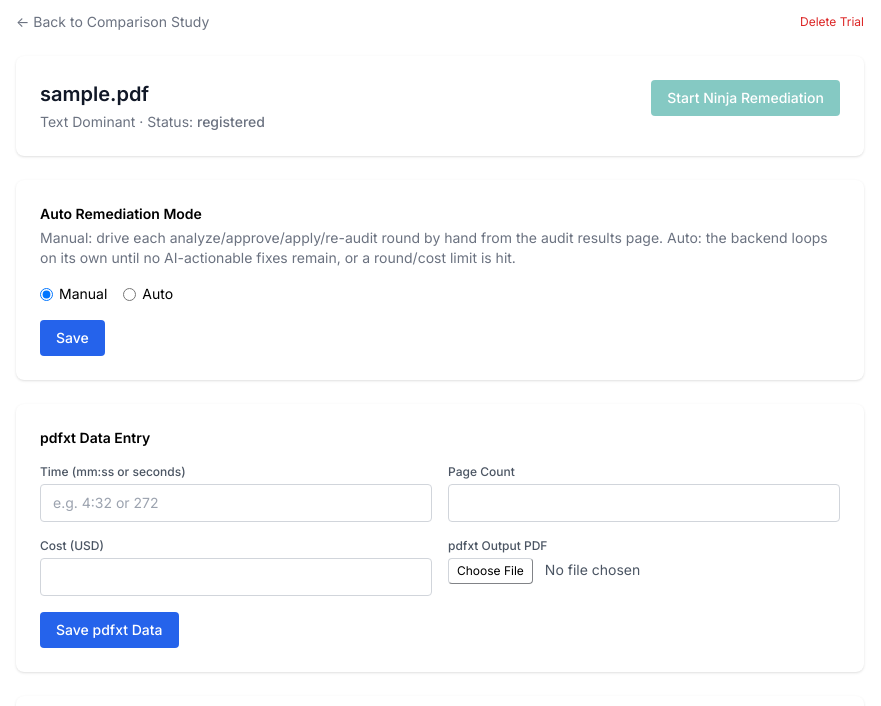
ComparisonTrialWorkspacePage › Auto Remediation Mode config › regression: surfaces the real 409 message from a save that was rejected server-side (e.g. a run started between page load and clicking Save), instead of a gener
This screenshot has width=881, height=706.
Click the radio button labelled "Auto": (130, 294) [123, 288, 136, 300]
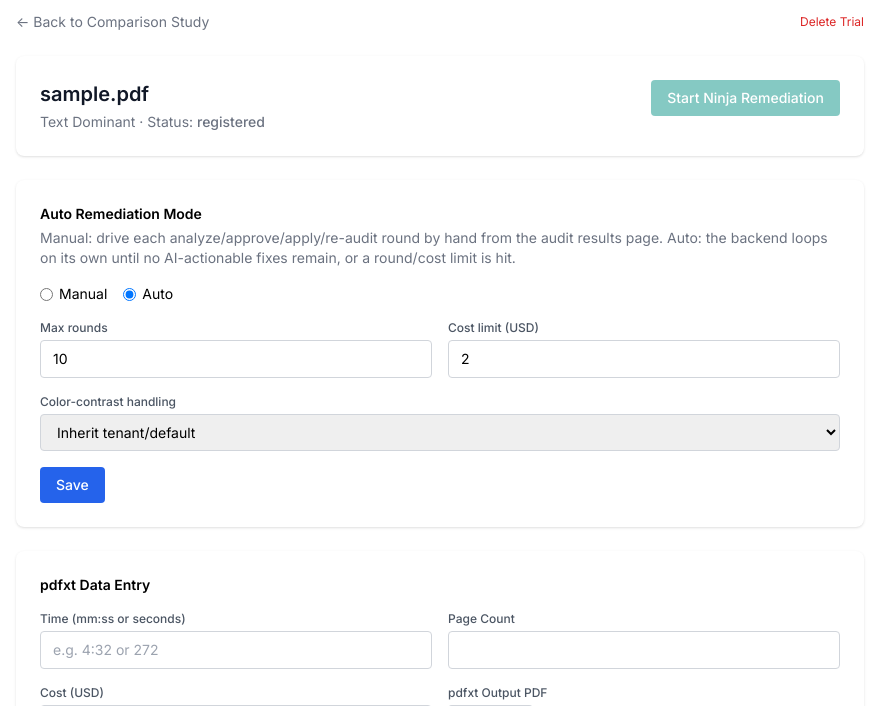
Click the button "Save": (72, 485) [40, 467, 105, 503]
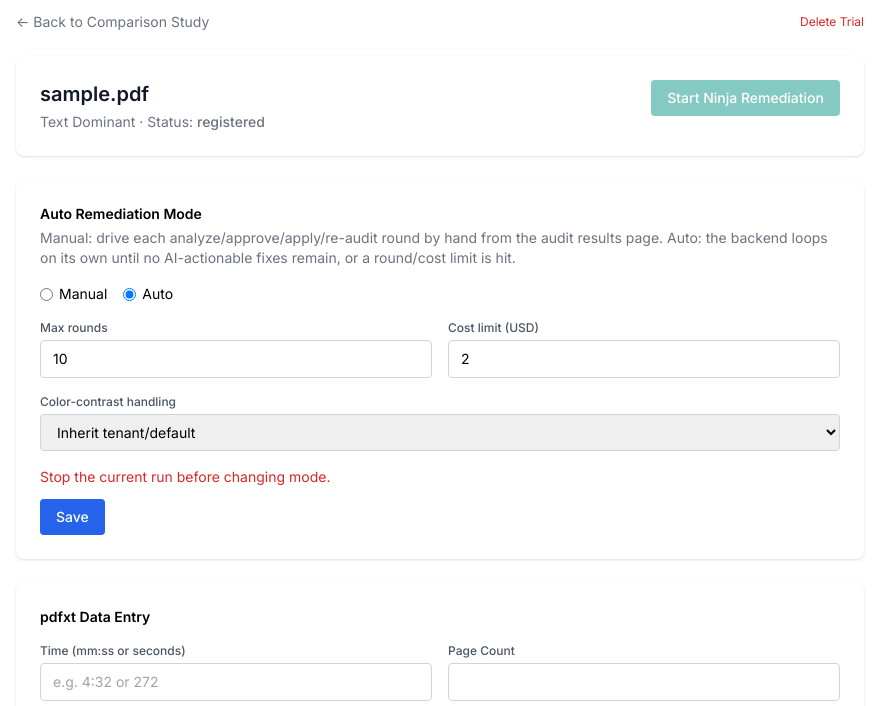
Expected: the text "Stop the current run before changing mode." is shown, [40, 468, 330, 485]
